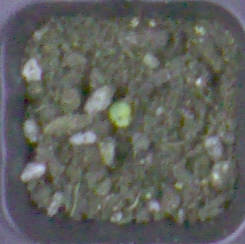pepper seed: (41, 36, 175, 165)
